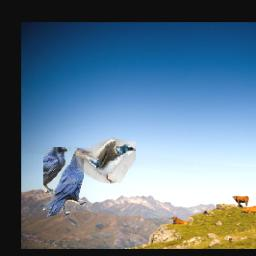Crow: (43, 147, 93, 218)
Swallow: (74, 137, 136, 183)
